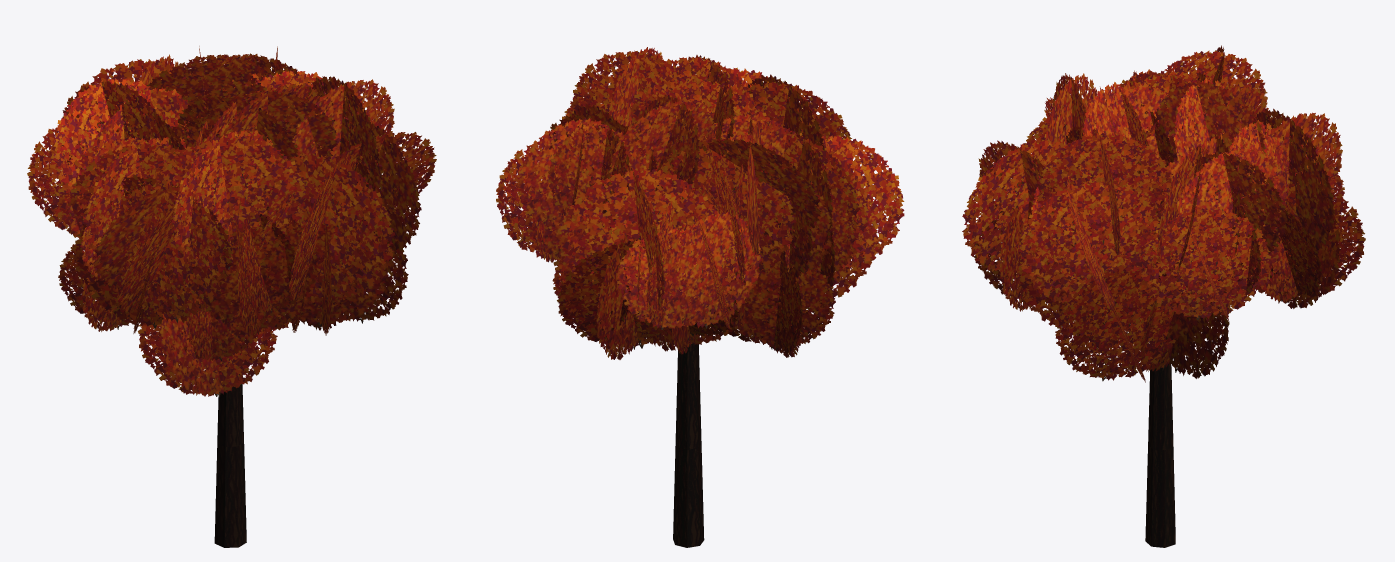
The model's file is maple_autumn_b.glb.
3 renders of one model, left to right at view 1: azimuth 30°, elevation 25°; view 2: azimuth 150°, elevation 25°; view 3: azimuth 270°, elevation 25°, orthographic. The views are drawn at different scales.
Visible parts, largest first — view 1: tree_maple; view 2: tree_maple; view 3: tree_maple.
Part boxes in pixels (left/top/right/bottom): tree_maple: left=27, top=46, right=436, bottom=547; tree_maple: left=496, top=47, right=904, bottom=547; tree_maple: left=962, top=45, right=1365, bottom=547.
Bounding box in the file's own units: 7.79 × 10.66 × 8.78.
Materials: 3 (3 with a texture image).
